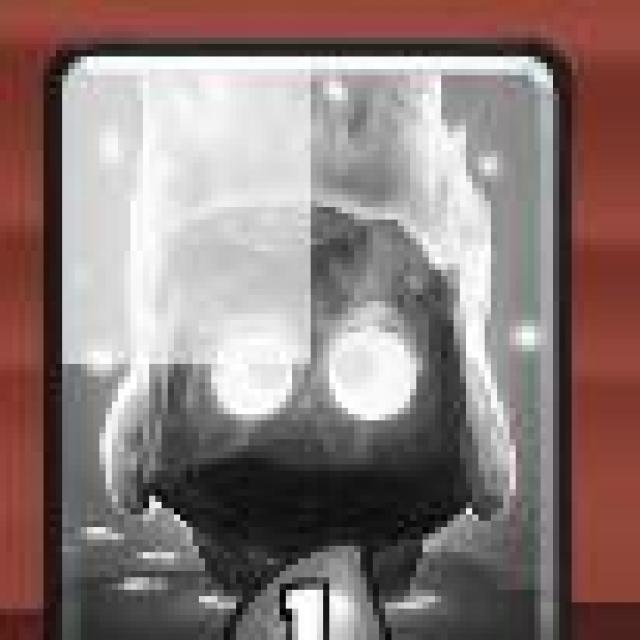Fire_Spirit: (48, 48, 568, 640)
